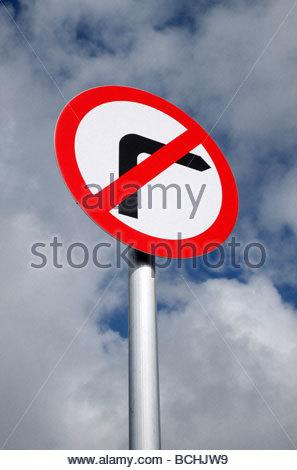no_right_turn: (53, 82, 237, 258)
